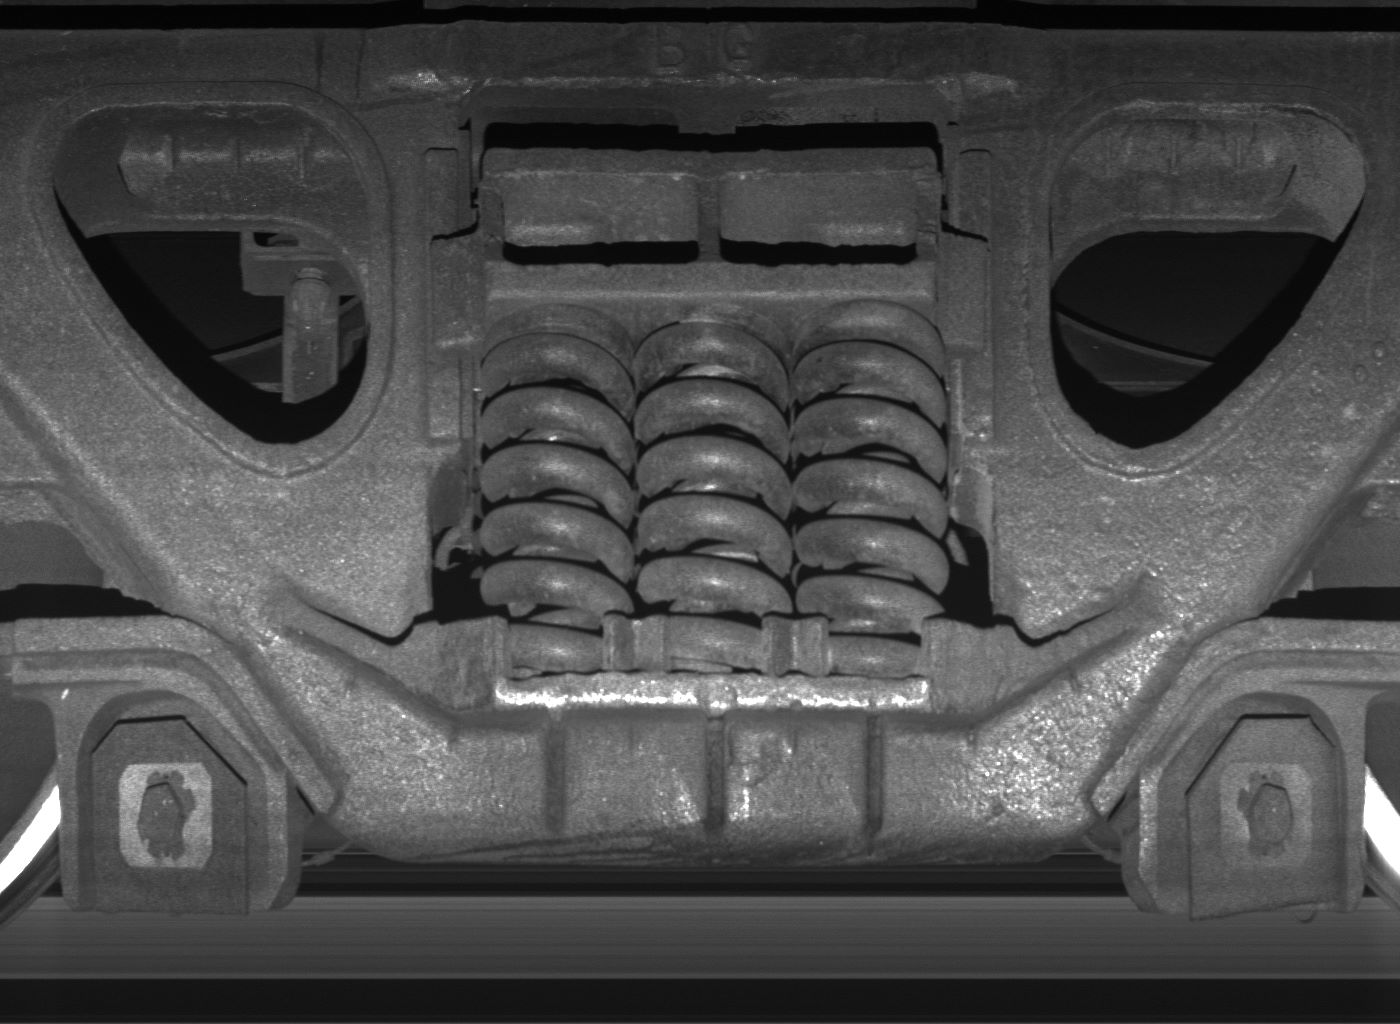locking plate: (1138, 690, 1363, 921)
normal: (59, 691, 285, 910)
